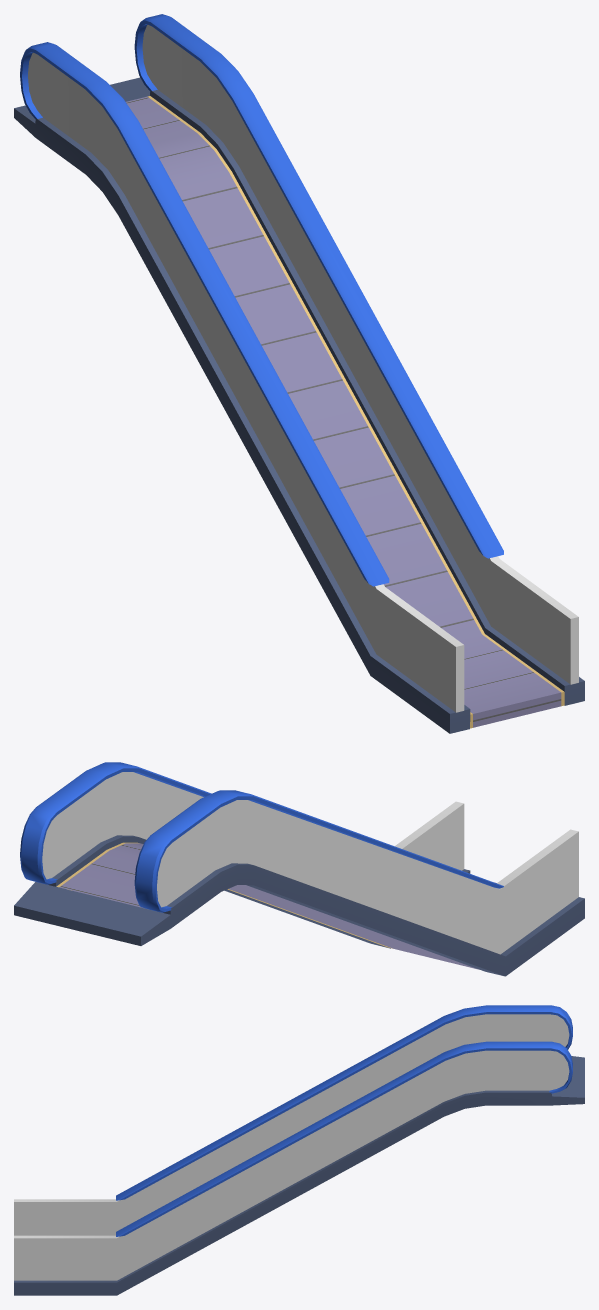
Rendered from escalator.fbx.
3 views of the same model, one above another, from view 1: azimuth 30°, elevation 25°; view 2: azimuth 150°, elevation 25°; view 3: azimuth 270°, elevation 25° (orthographic). The views are drawn at different scales.
Visible parts, largest first — view 1: Cube.010; view 2: Cube.010; view 3: Cube.010.
Boxes of the visible parts, bbox=[...] form: Cube.010: bbox=[14, 14, 584, 733]; Cube.010: bbox=[14, 762, 584, 976]; Cube.010: bbox=[14, 1005, 584, 1295].
Size of the model in its own units: 4.6 by 12.42 by 25.9.
